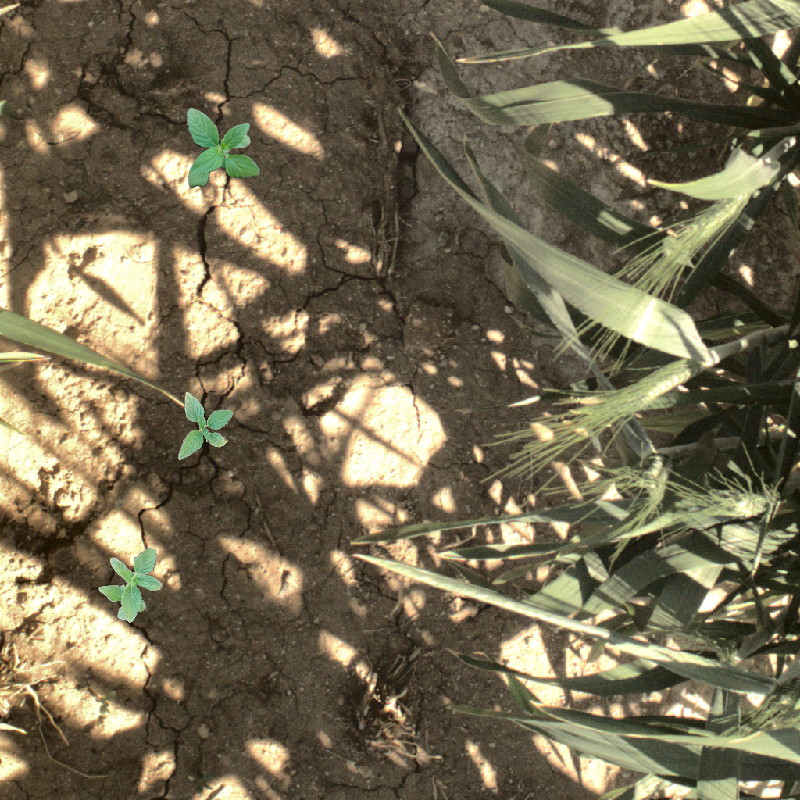spikelet: (589, 337, 737, 429), (658, 187, 752, 278), (683, 478, 783, 519)
weed: (90, 542, 177, 629), (187, 108, 260, 188), (178, 391, 234, 460)
